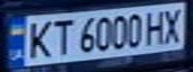0: (93, 14, 115, 52), (112, 11, 130, 51), (127, 10, 145, 47)
6: (75, 15, 96, 54)
H: (142, 8, 169, 45)
K: (21, 17, 54, 60)
T: (48, 16, 75, 56)
X: (160, 6, 187, 44)
